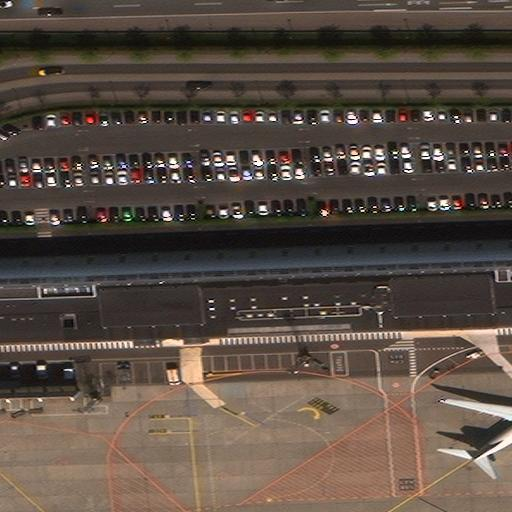Medium Civil Transport: (439, 390, 512, 465)
